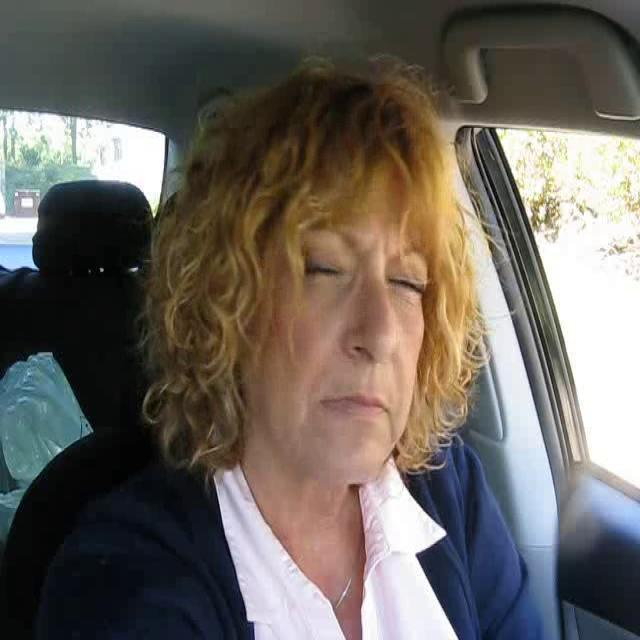close: (318, 388, 396, 424)
